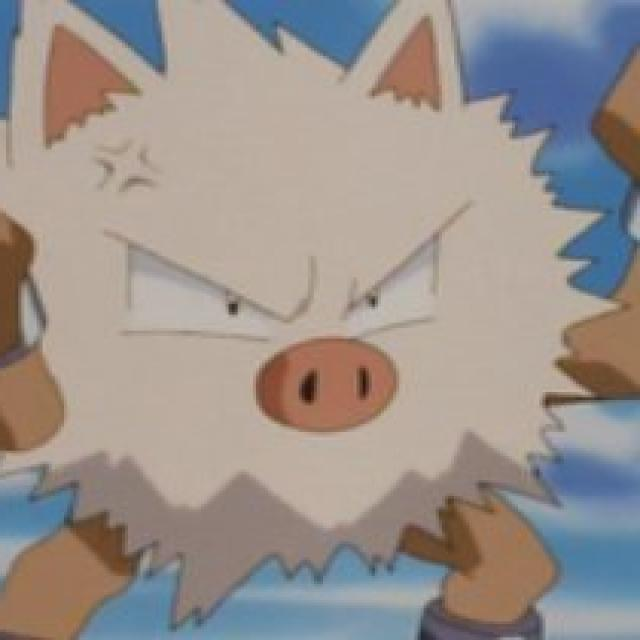Primeape: (0, 32, 607, 627)
